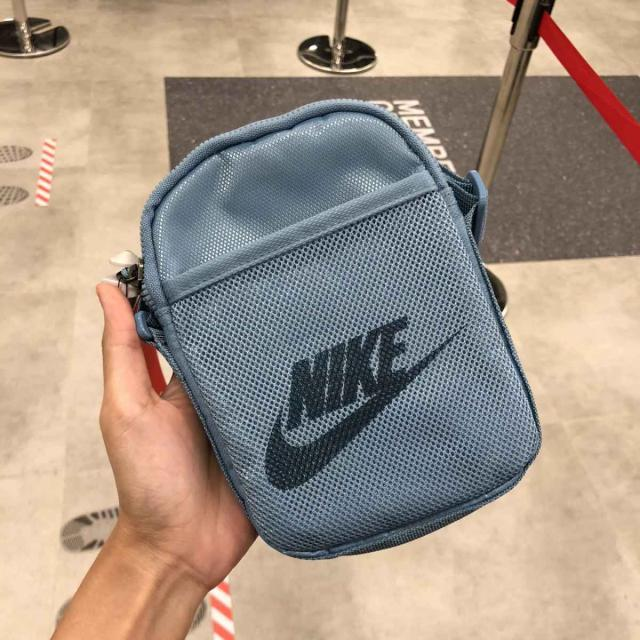Handbag: (118, 87, 559, 567)
